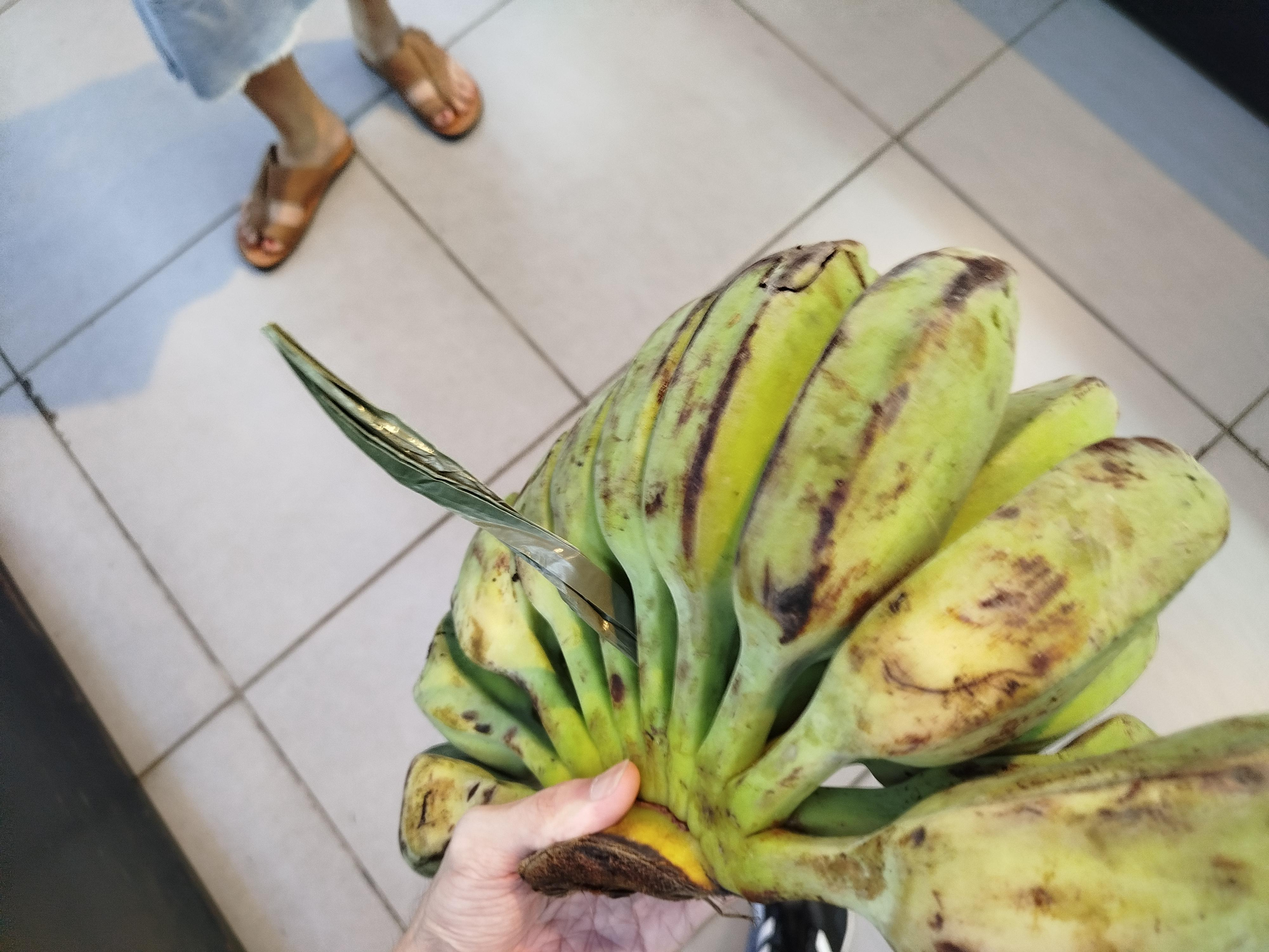underripe: (400, 244, 1269, 952)
